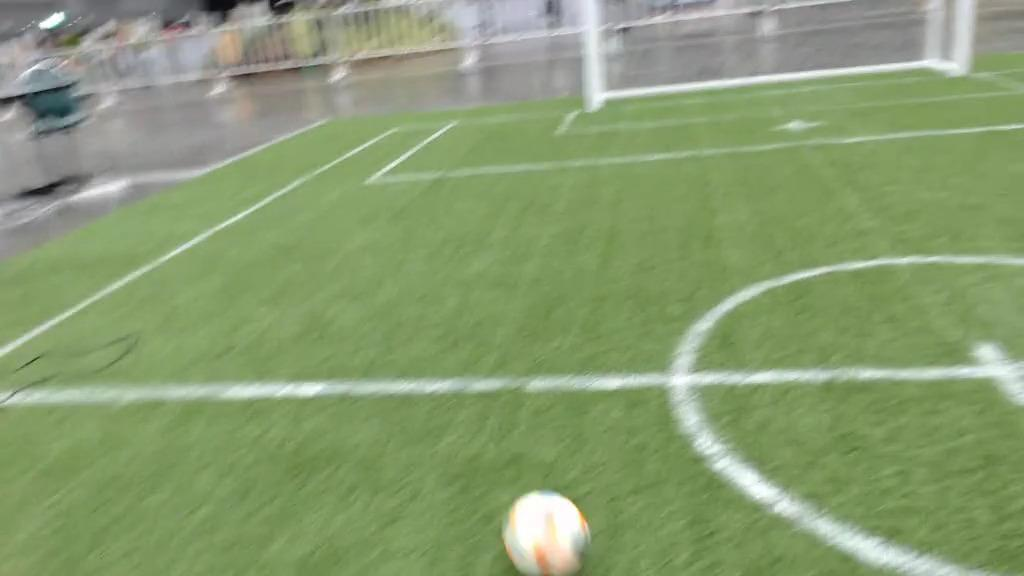ball: (503, 488, 590, 576)
